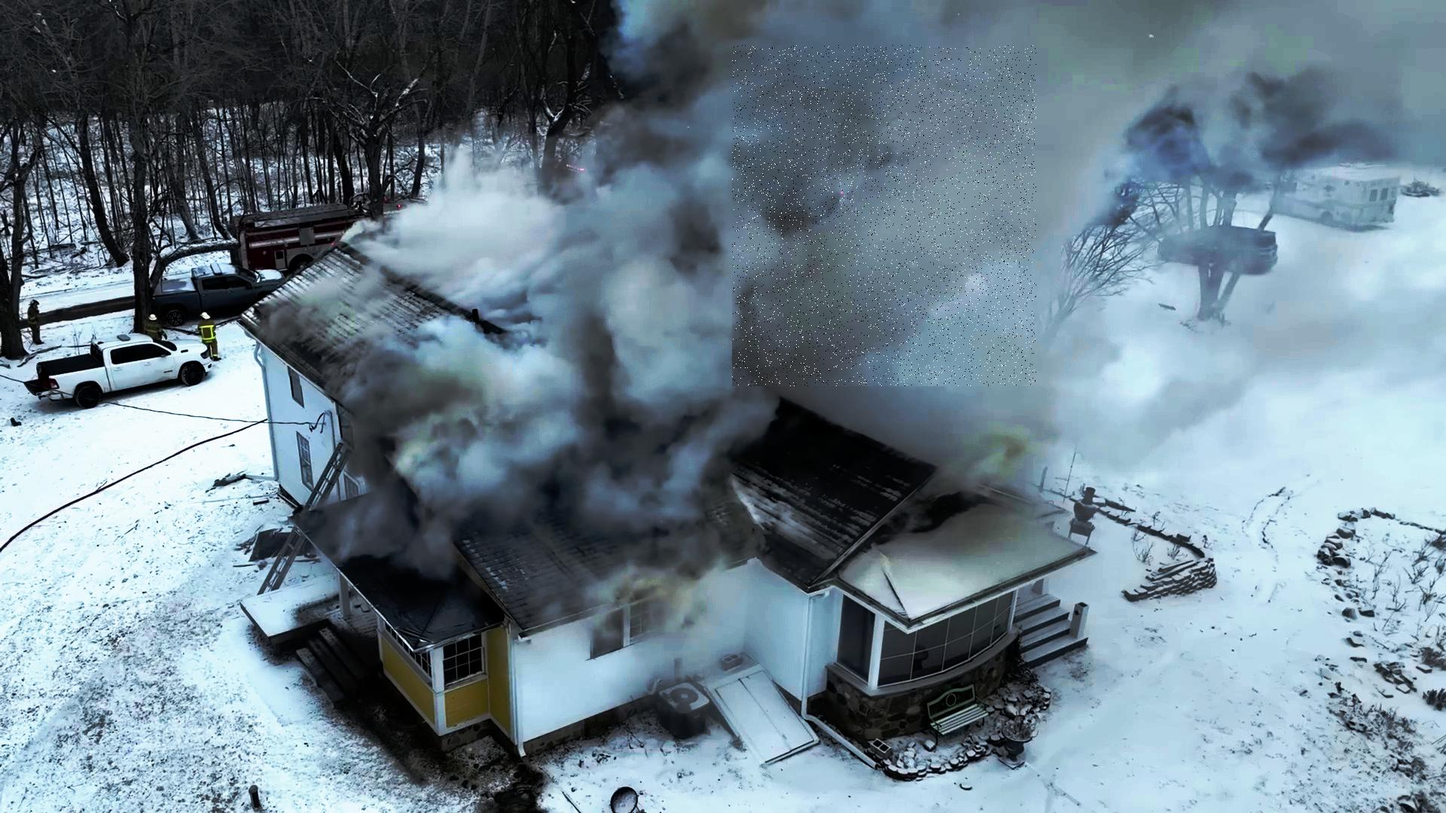smoke: (733, 45, 1037, 386)
